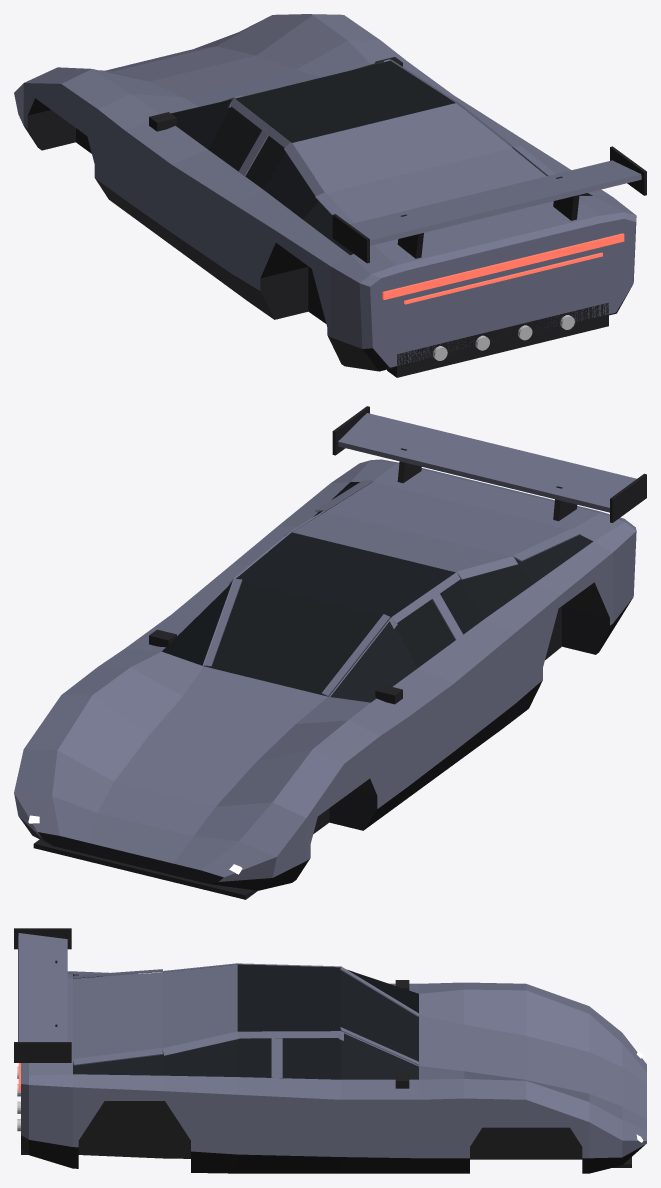
File: car_wedge.glb
3 renders of one model, top to bottom at view 1: azimuth 30°, elevation 25°; view 2: azimuth 150°, elevation 25°; view 3: azimuth 270°, elevation 25°, orthographic. The views are drawn at different scales.
Visible parts, largest first — view 1: phantomBody; view 2: phantomBody; view 3: phantomBody.
Boxes of the visible parts, left/top/right/bottom form: phantomBody: left=14, top=14, right=646, bottom=377; phantomBody: left=14, top=406, right=646, bottom=899; phantomBody: left=14, top=928, right=646, bottom=1173.
Size of the model in its own units: 2 by 1.12 by 4.61.
